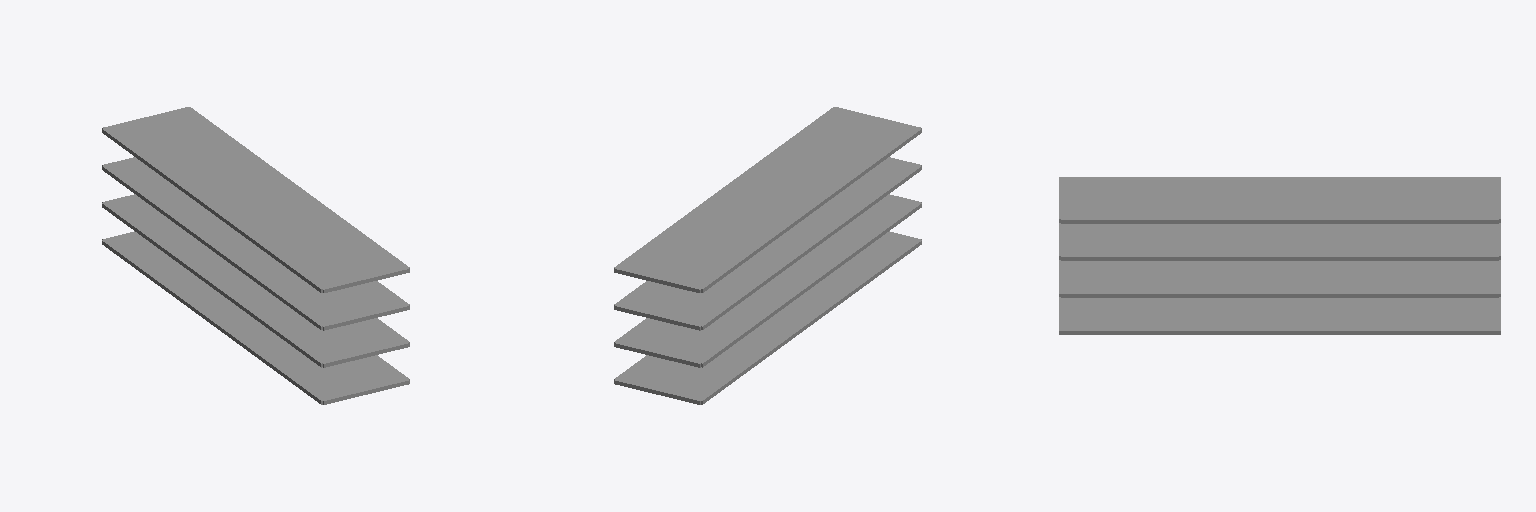
File: paint.obj
3 views of the same model, side by side, from view 1: azimuth 30°, elevation 25°; view 2: azimuth 150°, elevation 25°; view 3: azimuth 270°, elevation 25° (orthographic).
Visible parts, largest first — view 1: building5_paint_Cube.101; view 2: building5_paint_Cube.101; view 3: building5_paint_Cube.101.
Boxes of the visible parts, box(x1,y1,x2,y2) form: building5_paint_Cube.101: box(102, 107, 409, 404); building5_paint_Cube.101: box(614, 107, 921, 404); building5_paint_Cube.101: box(1059, 177, 1500, 334).
Bounding box in the file's own units: 10.48 × 13.03 × 45.24.